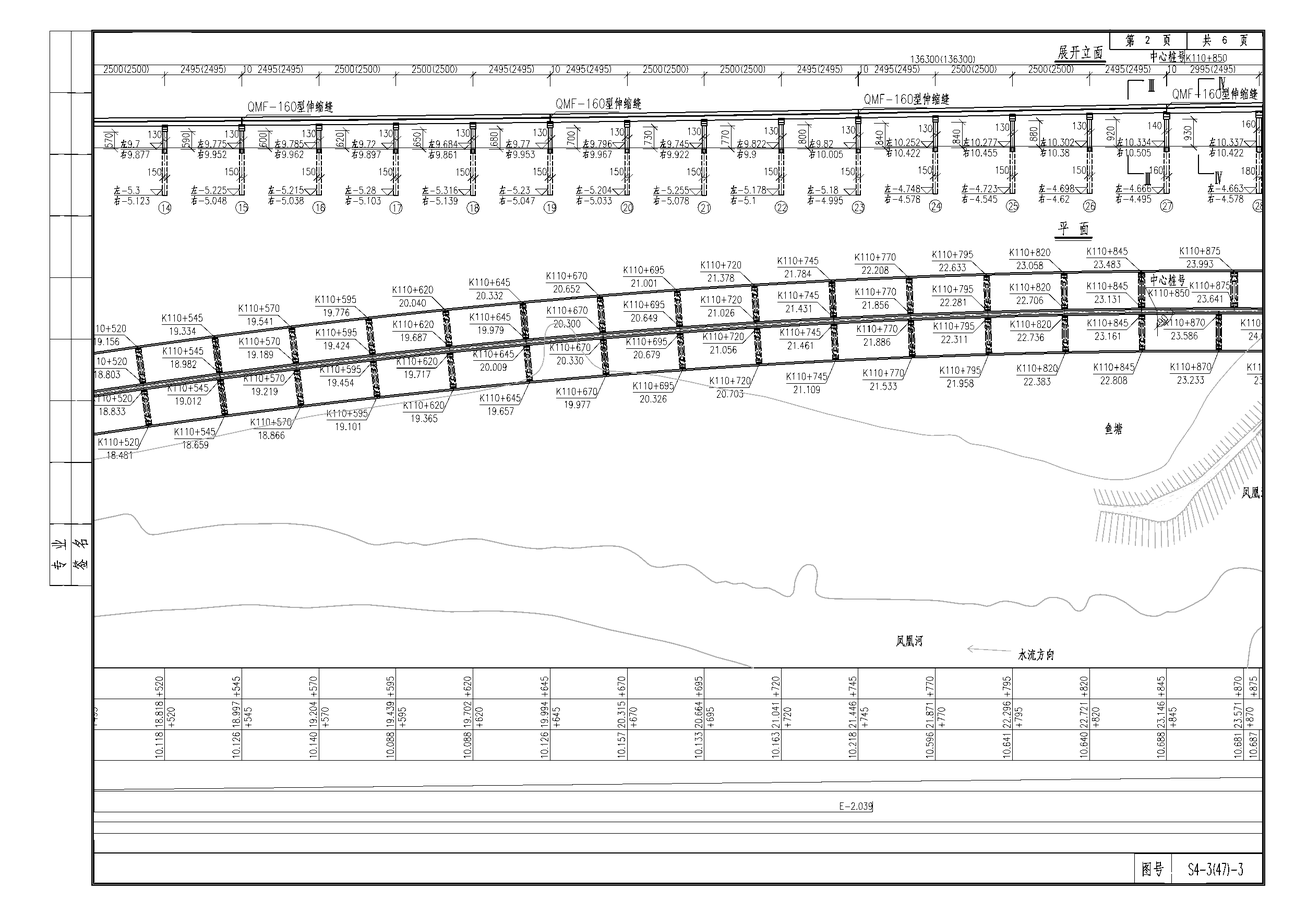A: (91, 43, 1269, 225)
